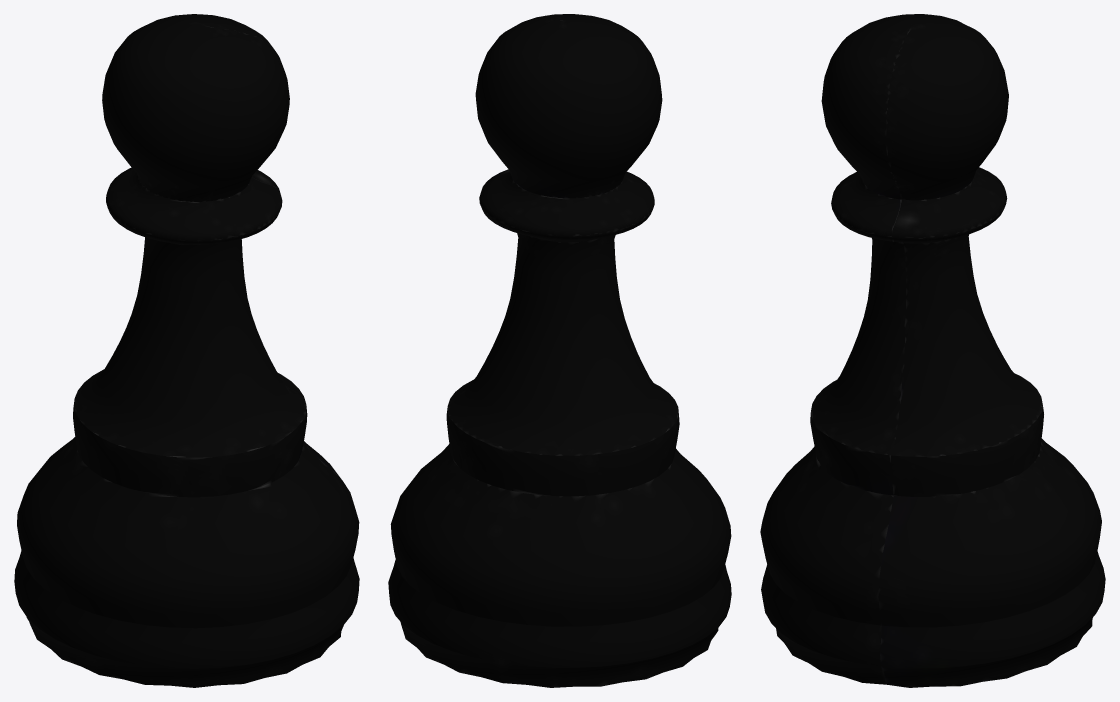
The model's file is Peon_Negro.glb.
3 renders of one model, left to right at view 1: azimuth 30°, elevation 25°; view 2: azimuth 150°, elevation 25°; view 3: azimuth 270°, elevation 25°, orthographic.
Parts seen in each view (by area): view 1: defaultMaterial.013; view 2: defaultMaterial.013; view 3: defaultMaterial.013.
Part boxes in pixels (x1,y1,x2,y2): defaultMaterial.013: [14, 14, 359, 687]; defaultMaterial.013: [388, 14, 731, 687]; defaultMaterial.013: [760, 14, 1105, 687].
Bounding box in the file's own units: 0.6094 × 1.17 × 0.6103.
Materials: 1 (1 with a texture image).
